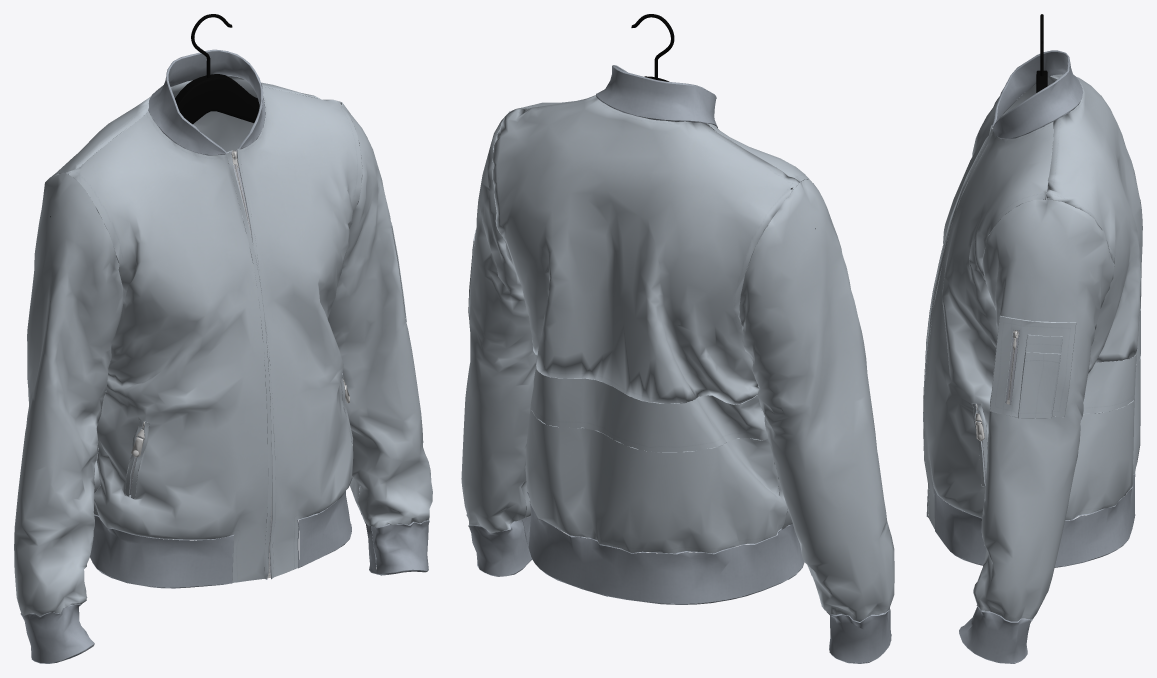
Rendered from bomber-jacket.glb.
3 renders of one model, left to right at view 1: azimuth 30°, elevation 25°; view 2: azimuth 150°, elevation 25°; view 3: azimuth 270°, elevation 25°, orthographic. The views are drawn at different scales.
Visible parts, largest first — view 1: Object_208.001, polySurface053.010; view 2: Object_208.001; view 3: Object_208.001, polySurface053.010.
Part boxes in pixels (<box>): Object_208.001: <box>14,49,432,663</box>; polySurface053.010: <box>50,14,259,216</box>; Object_208.001: <box>461,65,894,663</box>; Object_208.001: <box>923,50,1142,663</box>; polySurface053.010: <box>1036,14,1047,92</box>.
Bounding box in the file's own units: 0.6232 × 0.8592 × 0.3041.
2 materials, 1 textured.
